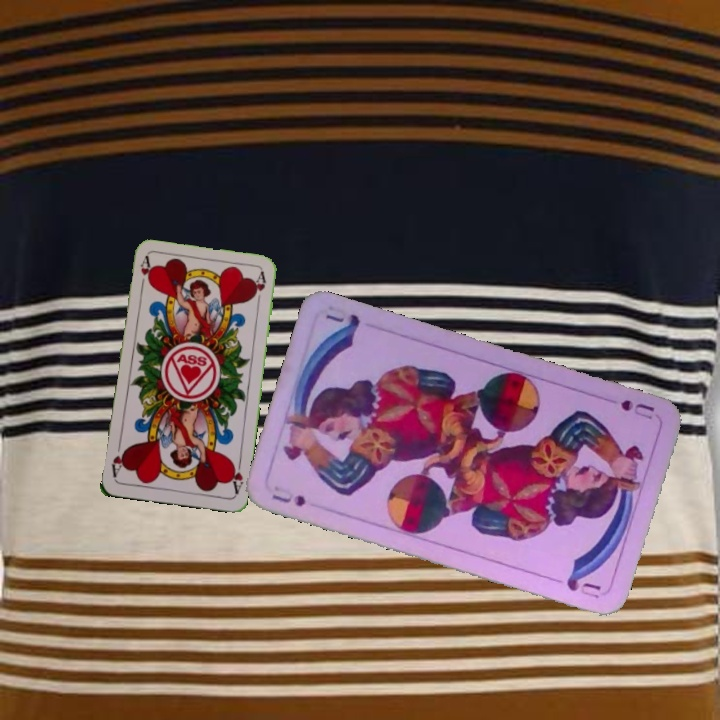HA: (226, 456, 245, 497), (136, 253, 153, 294)
SU: (267, 481, 309, 509), (616, 395, 657, 422)
